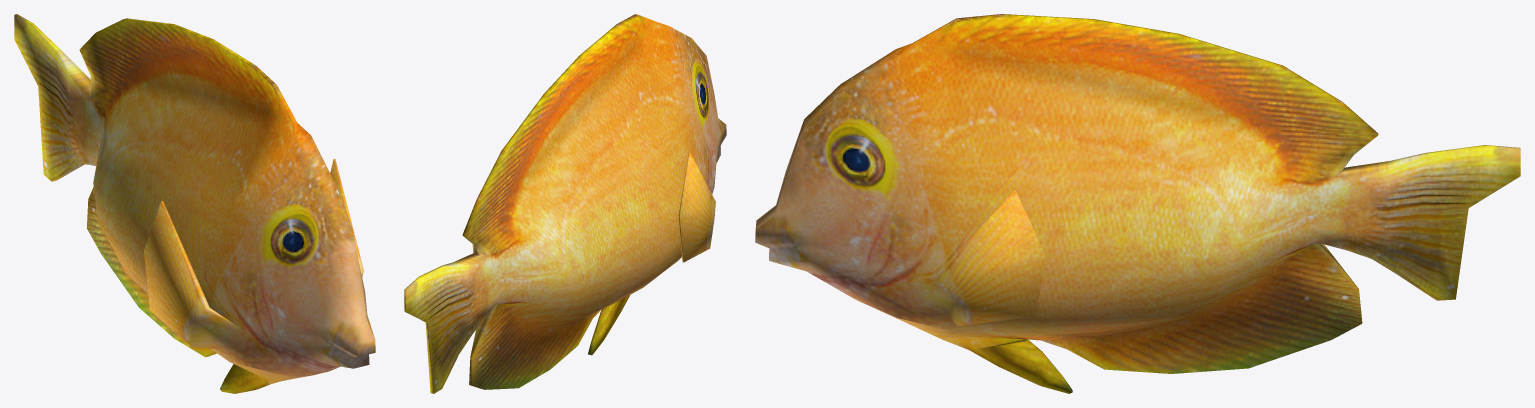
File: TropicalFish04.fbx
The picture shows the model from 3 angles, left to right: view 1: azimuth 30°, elevation 25°; view 2: azimuth 150°, elevation 25°; view 3: azimuth 270°, elevation 25°; orthographic projection. The views are drawn at different scales.
Parts seen in each view (by area): view 1: TropicalFish04; view 2: TropicalFish04; view 3: TropicalFish04.
Boxes of the visible parts, x1=… form: TropicalFish04: x1=14, y1=14, x2=375, y2=393; TropicalFish04: x1=404, y1=14, x2=726, y2=393; TropicalFish04: x1=755, y1=14, x2=1520, y2=393.
Bounding box in the file's own units: 135 × 456 × 248.
